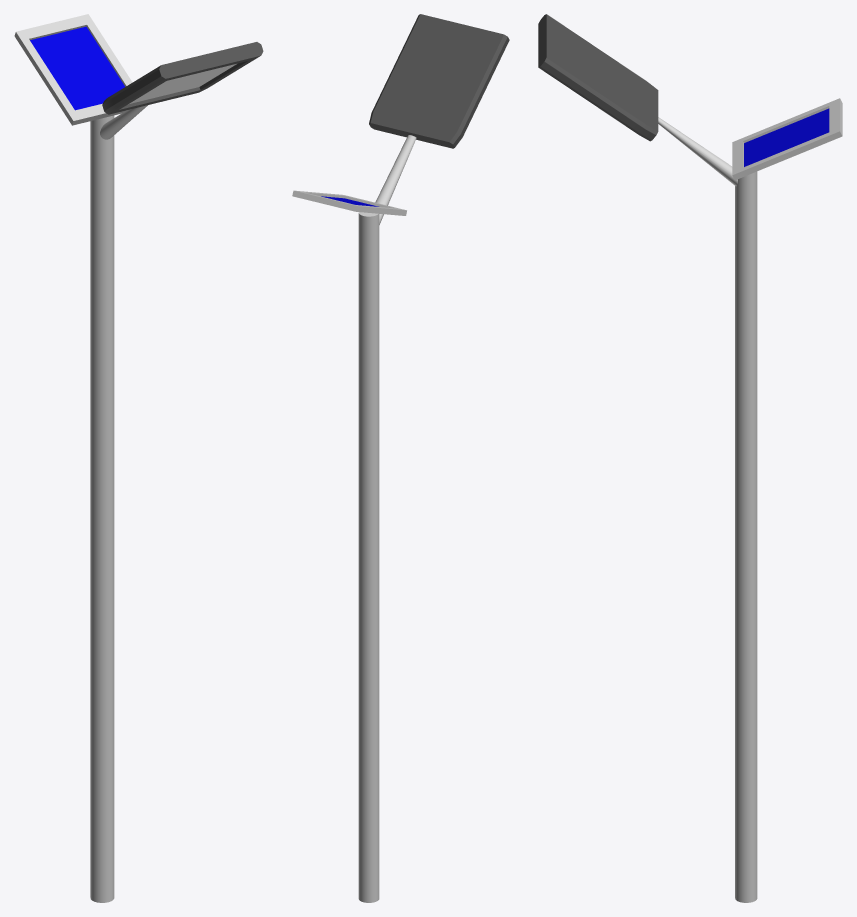
File: SolarStreetLight.fbx
3 views of the same model, side by side, from view 1: azimuth 30°, elevation 25°; view 2: azimuth 150°, elevation 25°; view 3: azimuth 270°, elevation 25° (orthographic). The views are drawn at different scales.
Visible parts, largest first — view 1: pCylinder1, pCube1, pCube2, pCylinder2; view 2: pCylinder1, pCube2, pCube1, pCylinder2; view 3: pCylinder1, pCube2, pCube1, pCylinder2.
Boxes of the visible parts, bbox=[...] form: pCylinder1: bbox=[90, 115, 114, 902]; pCube1: bbox=[14, 14, 132, 125]; pCube2: bbox=[102, 42, 263, 114]; pCylinder2: bbox=[100, 105, 147, 139]; pCylinder1: bbox=[358, 212, 379, 902]; pCube2: bbox=[369, 14, 509, 148]; pCube1: bbox=[292, 190, 406, 215]; pCylinder2: bbox=[375, 135, 416, 224]; pCylinder1: bbox=[735, 171, 757, 902]; pCube2: bbox=[538, 14, 658, 141]; pCube1: bbox=[732, 98, 842, 180]; pCylinder2: bbox=[658, 117, 737, 186].
Bounding box in the file's own units: 25.98 × 224 × 71.74.
